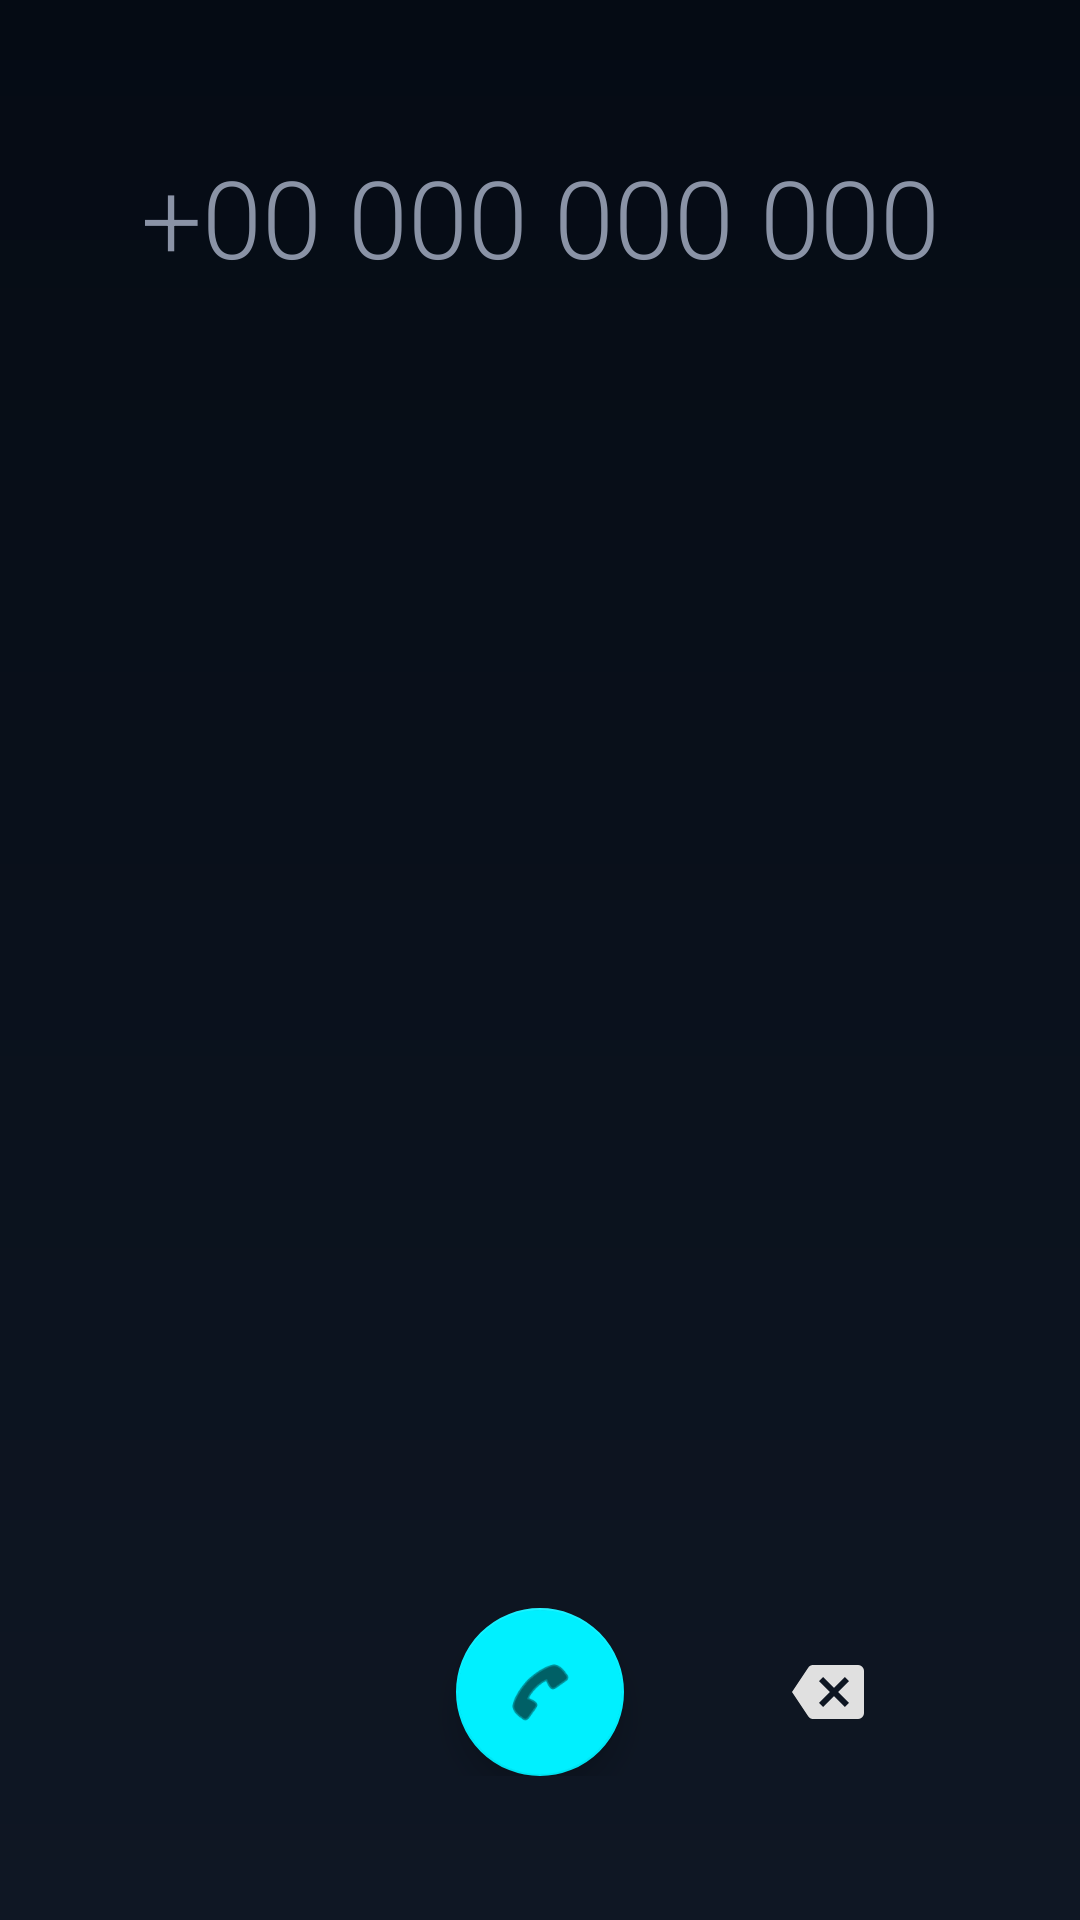

Screen size 1080*1920. Icon name, then its box in pixels as bbox(x1, y1, x2, y2):
Backspace: bbox(792, 1665, 864, 1719)
call: bbox(456, 1608, 624, 1776)
